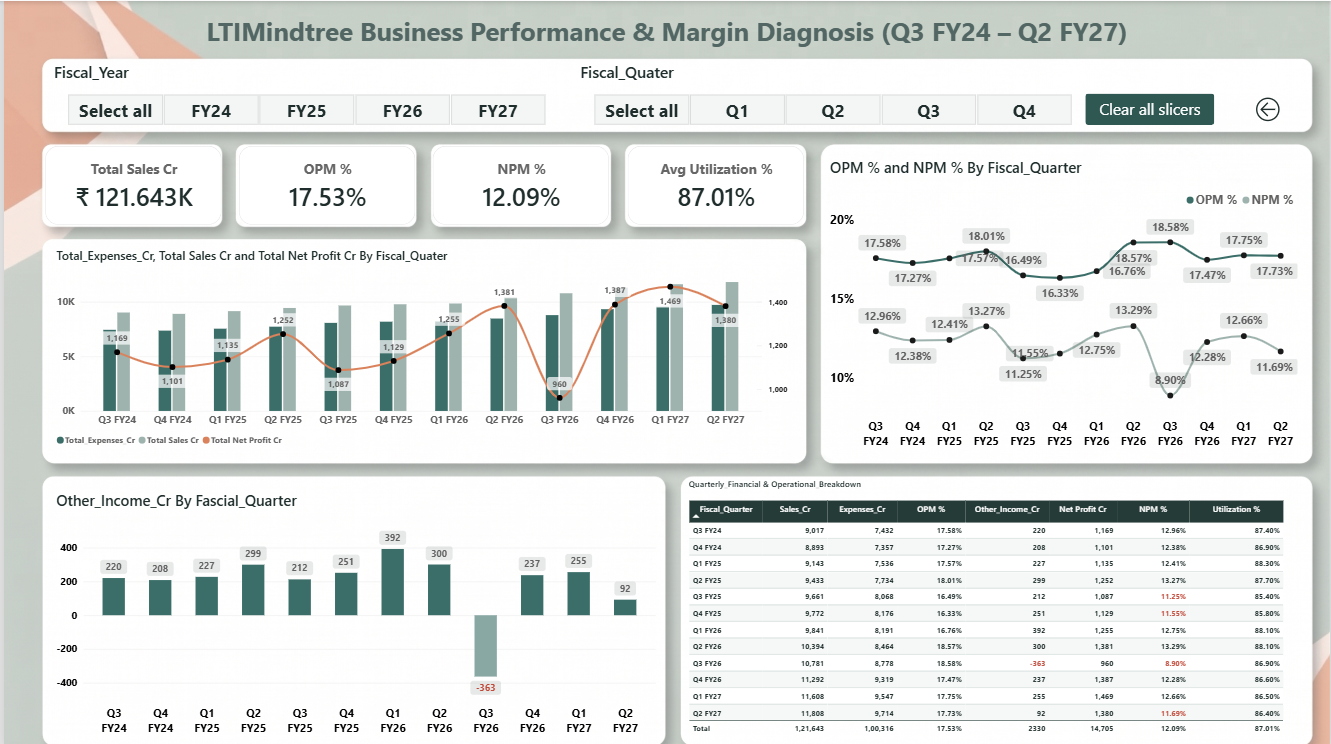

This screenshot's page, from the dashboard's own definition file:
{"tool":"powerbi","page":{"name":"Overview","canvas":[1920,1080],"ordinal":1},"visuals":[{"type":"cardVisual","fields":{"Data":["ltim_cleaned.Total Sales Cr"]},"box":[59.7,209.9,255.2,114],"z":0},{"type":"cardVisual","fields":{"Data":["ltim_cleaned.OPM %"]},"box":[340.2,209.9,255.2,114],"z":1000},{"type":"cardVisual","fields":{"Data":["ltim_cleaned.NPM %"]},"box":[620.7,209.9,255.2,114],"z":2000},{"type":"cardVisual","fields":{"Data":["ltim_cleaned.Avg Utilization %"]},"box":[903,209.9,255.2,114],"z":3000},{"type":"lineChart","title":"OPM % and NPM % By Fiscal_Quarter","fields":{"Category":["ltim_cleaned.Fiscal_Quarter"],"Y":["ltim_cleaned.OPM %","ltim_cleaned.NPM %"]},"box":[1180.4,210.9,708.7,454.3],"z":5000},{"type":"clusteredColumnChart","title":"Other_Income_Cr By Fascial_Quarter","fields":{"Category":["ltim_cleaned.Fiscal_Quarter"],"Y":["Sum(ltim_cleaned.Other_Income_Cr)"]},"box":[59.6,692.3,900,388.5],"z":6000},{"type":"tableEx","title":"Quarterly_Financial & Operational_Breakdown","fields":{"Values":["ltim_cleaned.Fiscal_Quarter","Sum(ltim_cleaned.Sales_Cr)","Sum(ltim_cleaned.Expenses_Cr)","ltim_cleaned.OPM %","Sum(ltim_cleaned.Other_Income_Cr)","ltim_cleaned.Total Net Profit Cr","ltim_cleaned.NPM %","ltim_cleaned.Avg Utilization %"]},"box":[975,676.2,913.8,403.8],"z":7000},{"type":"actionButton","box":[1565.2,134.8,187,45.7],"z":9000},{"type":"slicer","title":"Fiscal_Year","fields":{"Values":["ltim_cleaned.Fiscal_Year"]},"box":[71.7,87,730.4,93.5],"z":10001},{"type":"slicer","title":"Fiscal_Quater","fields":{"Values":["ltim_cleaned.Quarter"]},"box":[834.8,87,730.4,93.5],"z":10002},{"type":"actionButton","box":[1769.6,134.8,119.6,45.7],"z":10003},{"type":"lineClusteredColumnComboChart","title":"Total_Expenses_Cr, Total Sales Cr and Total Net Profit Cr By Fiscal_Quater","fields":{"Category":["ltim_cleaned.Fiscal_Quarter"],"Y":["Sum(ltim_cleaned.Expenses_Cr)","ltim_cleaned.Total Sales Cr"],"Y2":["ltim_cleaned.Total Net Profit Cr"]},"box":[59.6,342.3,1100,323.1],"z":10004},{"type":"textbox","box":[215.6,17.8,1488.9,68.9],"z":10005}]}

Visuals, with their boxes in screenshot pixels (x1, y1, x2, y2), scaled from the page's 1920x1080 canvas onto the 1331x744 screenshot:
cardVisual - ltim_cleaned.Total Sales Cr: bbox=[41, 145, 218, 223]
cardVisual - ltim_cleaned.OPM %: bbox=[236, 145, 413, 223]
cardVisual - ltim_cleaned.NPM %: bbox=[430, 145, 607, 223]
cardVisual - ltim_cleaned.Avg Utilization %: bbox=[626, 145, 803, 223]
"OPM % and NPM % By Fiscal_Quarter" lineChart: bbox=[818, 145, 1310, 458]
"Other_Income_Cr By Fascial_Quarter" clusteredColumnChart: bbox=[41, 477, 665, 743]
"Quarterly_Financial & Operational_Breakdown" tableEx: bbox=[676, 466, 1309, 743]
actionButton: bbox=[1085, 93, 1215, 124]
"Fiscal_Year" slicer: bbox=[50, 60, 556, 124]
"Fiscal_Quater" slicer: bbox=[579, 60, 1085, 124]
actionButton: bbox=[1227, 93, 1310, 124]
"Total_Expenses_Cr, Total Sales Cr and Total Net Profit Cr By Fiscal_Quater" lineClusteredColumnComboChart: bbox=[41, 236, 804, 458]
textbox: bbox=[149, 12, 1182, 60]
